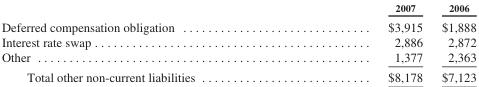table: (0, 1, 475, 84)
table column: (0, 1, 290, 84), (290, 1, 431, 84), (431, 1, 475, 84)
table column header: (0, 1, 475, 16)
table row: (0, 16, 475, 34), (0, 66, 475, 84), (0, 49, 475, 66), (0, 1, 475, 16), (0, 34, 475, 49)
